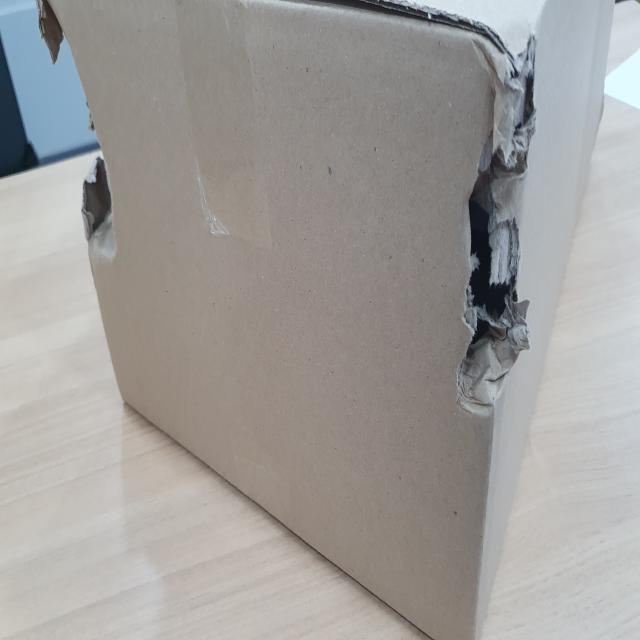hole: (448, 59, 538, 387), (50, 3, 117, 241)
